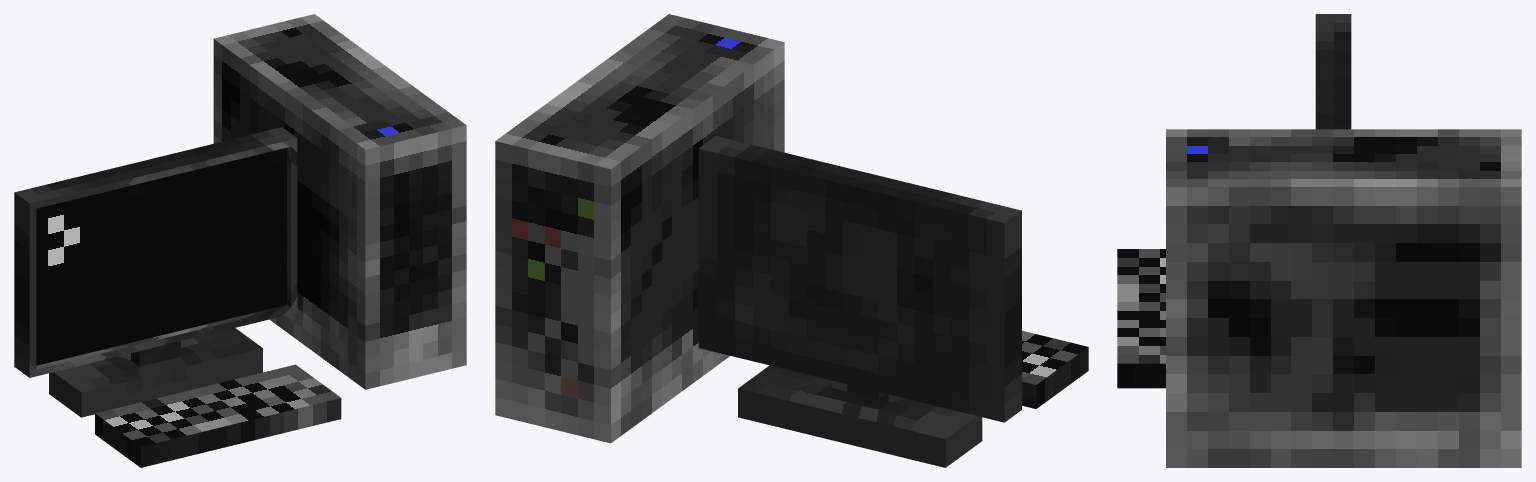
The picture shows the model from 3 angles, left to right: view 1: azimuth 30°, elevation 25°; view 2: azimuth 150°, elevation 25°; view 3: azimuth 270°, elevation 25°; orthographic projection. The views are drawn at different scales.
Visible parts, largest first — view 1: gaming_pc; view 2: gaming_pc; view 3: gaming_pc.
Part boxes in pixels (x1,y1,x2,y2): gaming_pc: (14,14,466,467); gaming_pc: (495,14,1088,467); gaming_pc: (1117,14,1521,467).
Bounding box in the file's own units: 0.9034 × 0.5848 × 0.7247.
Materials: 1 (1 with a texture image).
